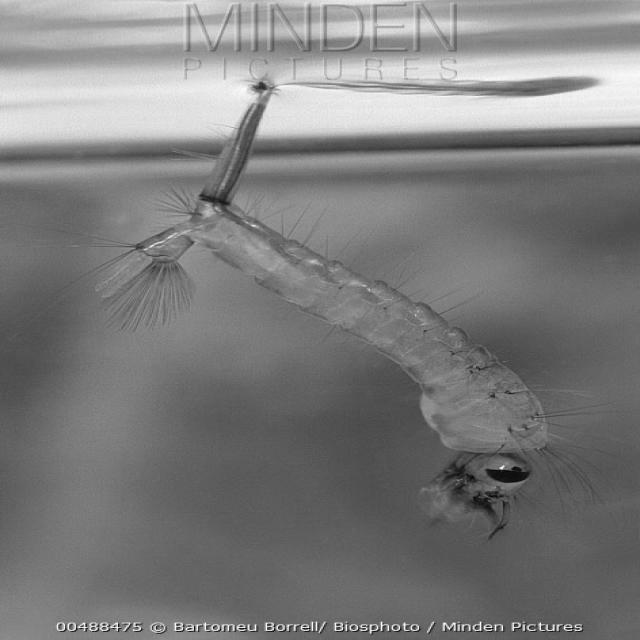larvas: (145, 91, 552, 516)
